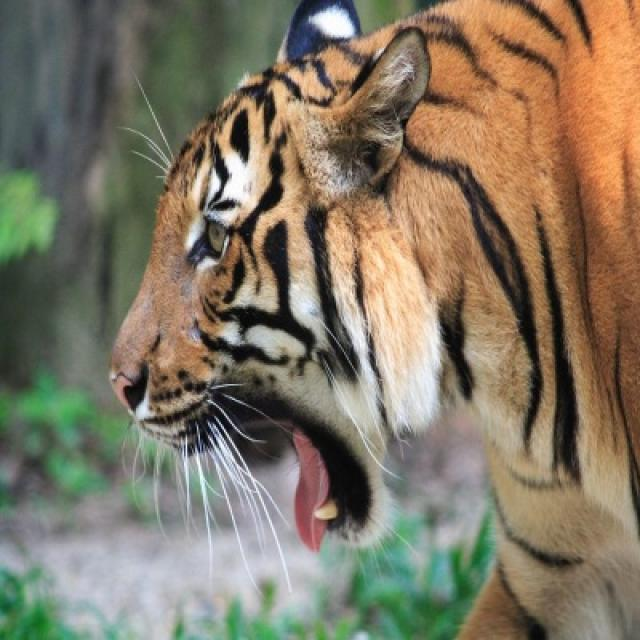Tiger: (107, 0, 638, 638)
